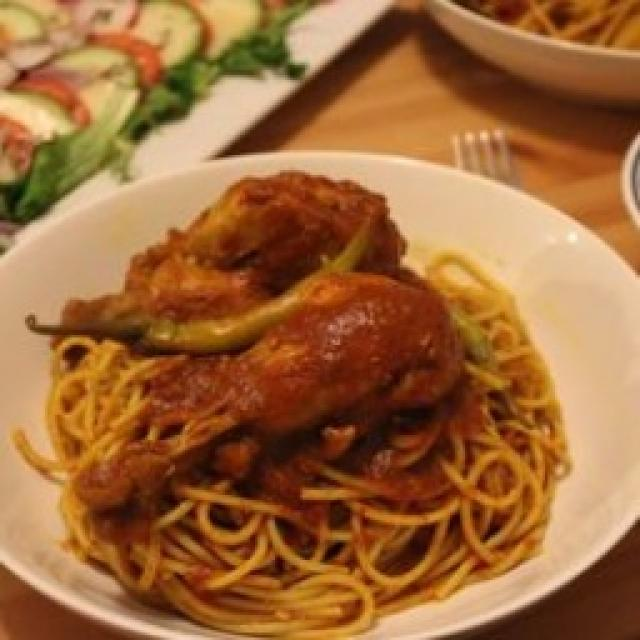Pasta: (16, 171, 568, 639)
